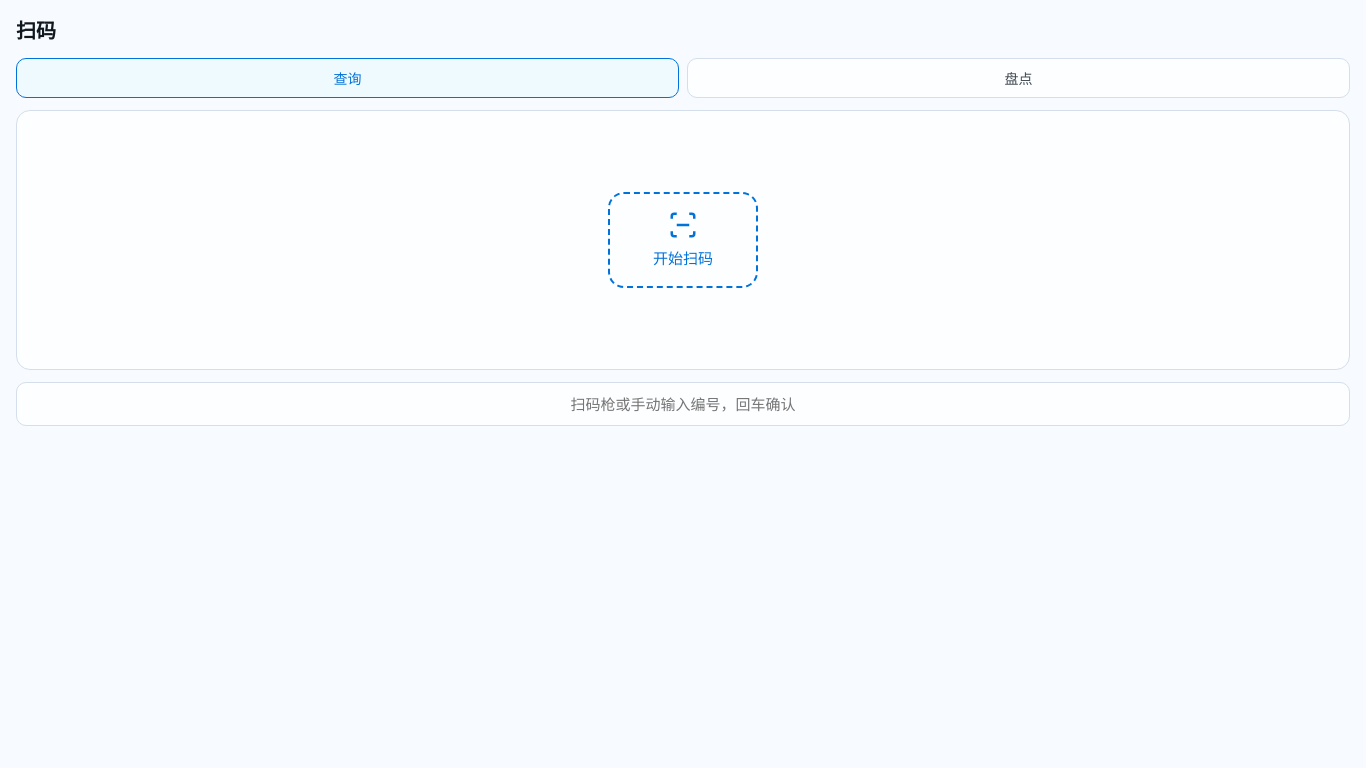
it: ScanAsset 统一扫码器 › 盘点模式：清单内打钩、重复不重交、清单外警告
Click the button with class "mode-btn" showing "盘点" at (1018, 78), box [687,58,1350,98]
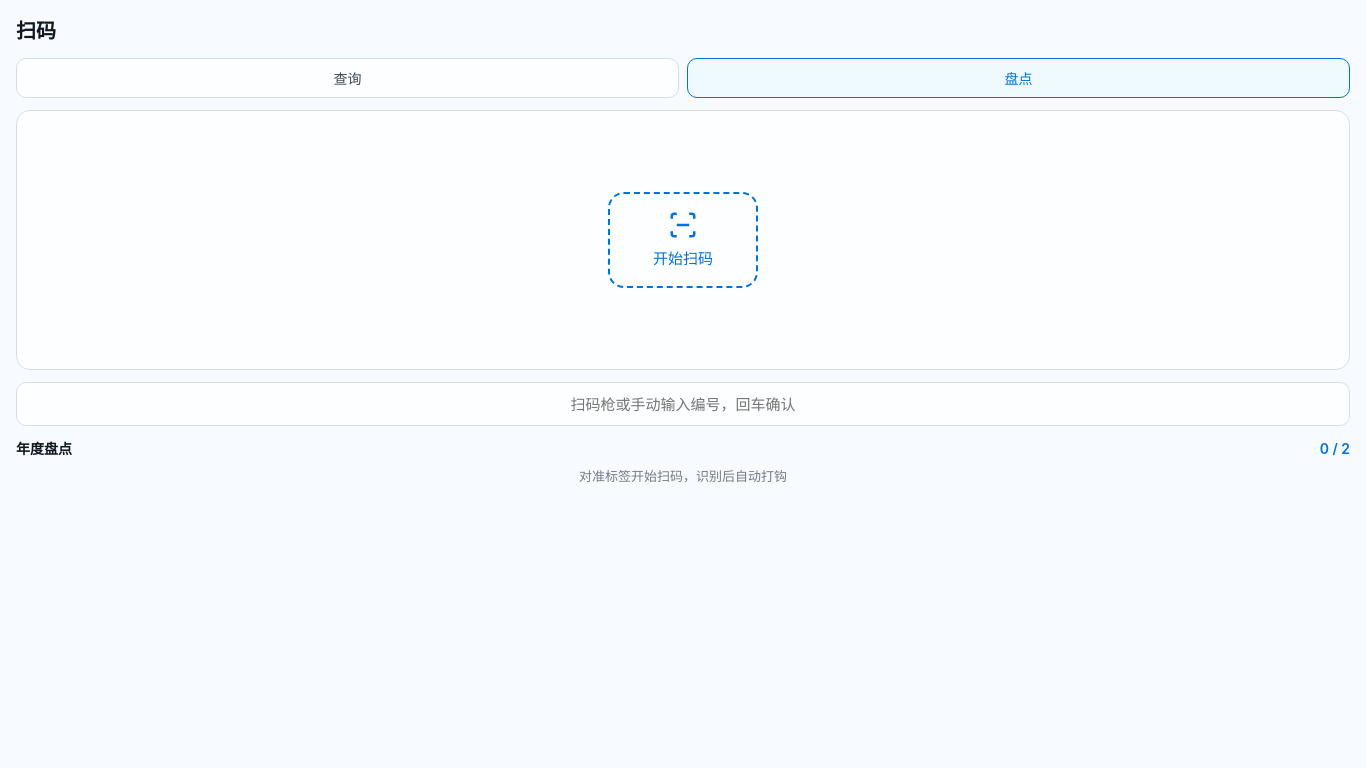
Expected: the element with class "inv-progress" is shown, [16,438,1350,459]
Type "A-a00008-BJ001-1" into the field with class "manual-input" at (683, 404), box [16,382,1350,426]
Press Enter in the field with class "manual-input", box [16,382,1350,426]
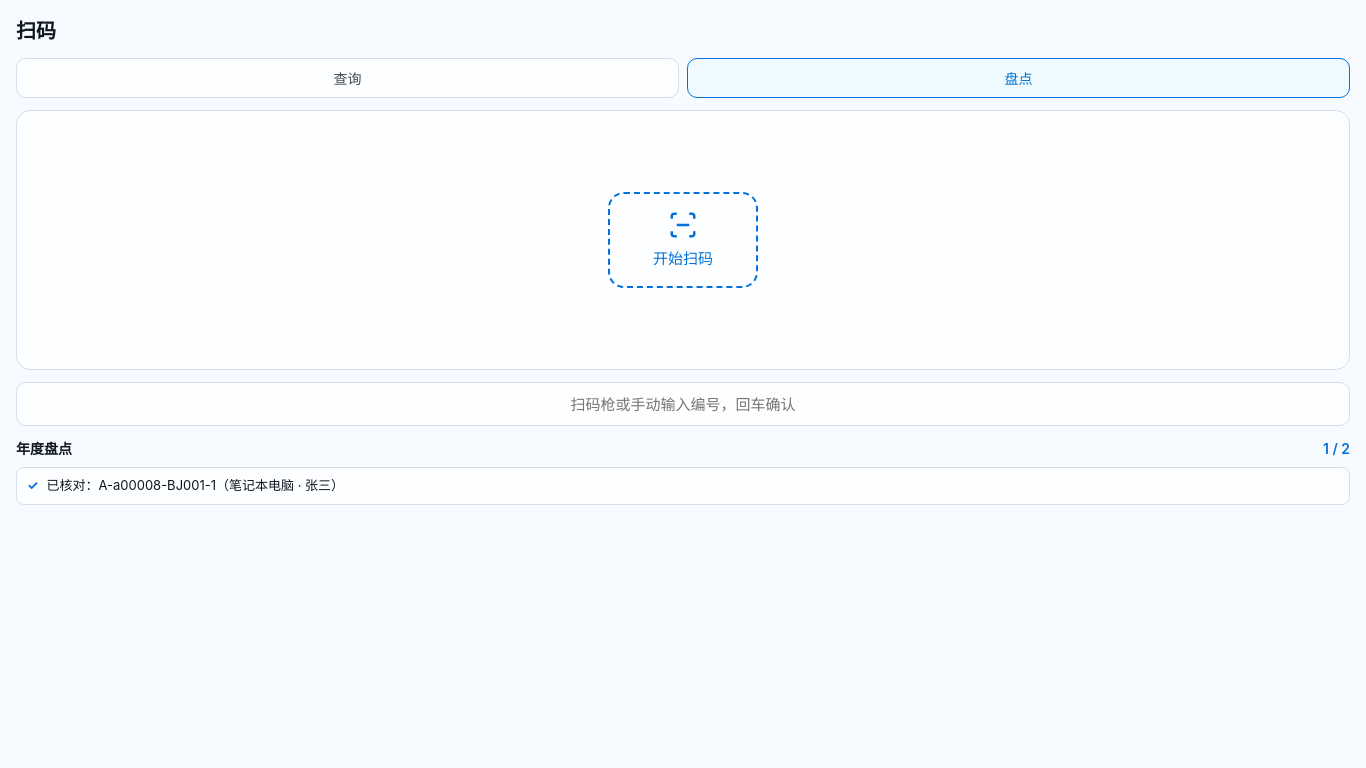
Expected: the element with class "flow-item" shows "A-a00008-BJ001-1", [46,477,344,493]
Type "A-a00008-BJ001-1" into the field with class "manual-input" at (683, 404), box [16,382,1350,426]
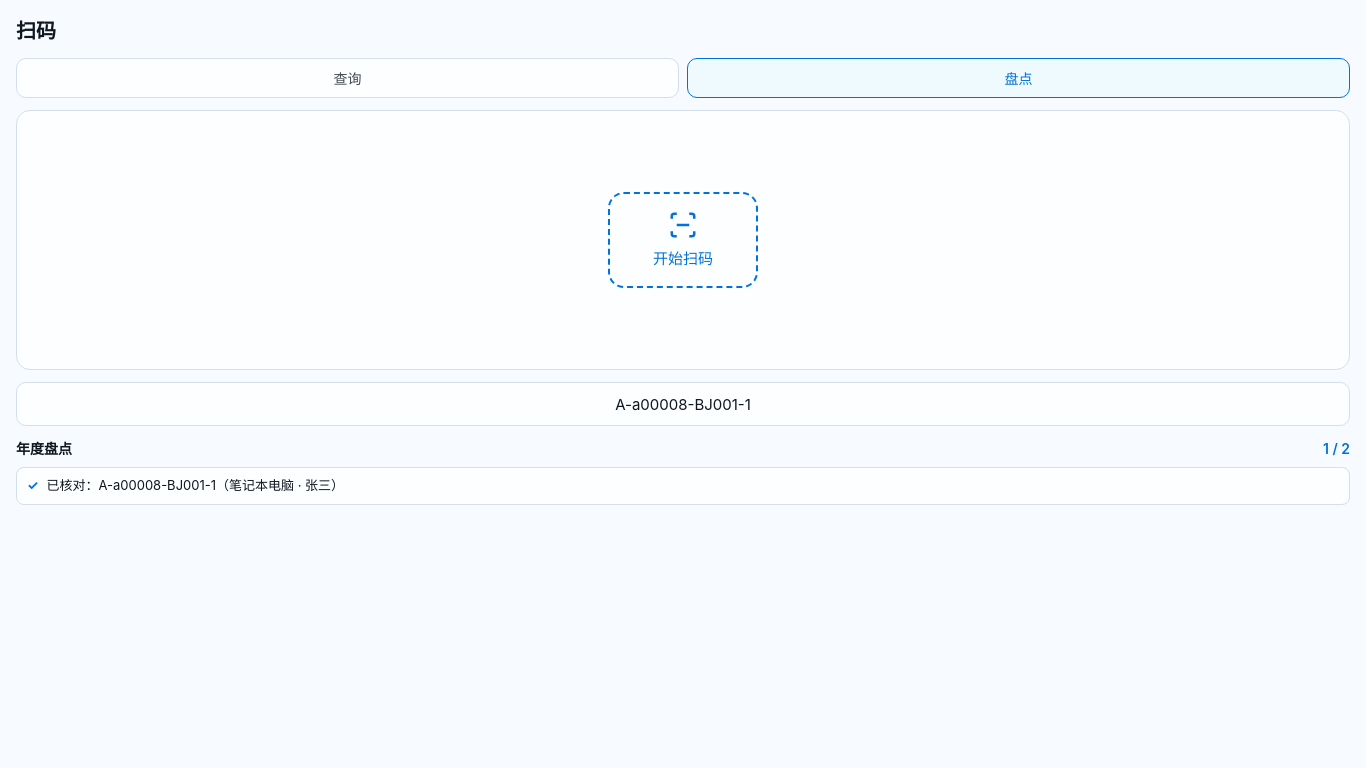
Press Enter in the field with class "manual-input", box [16,382,1350,426]
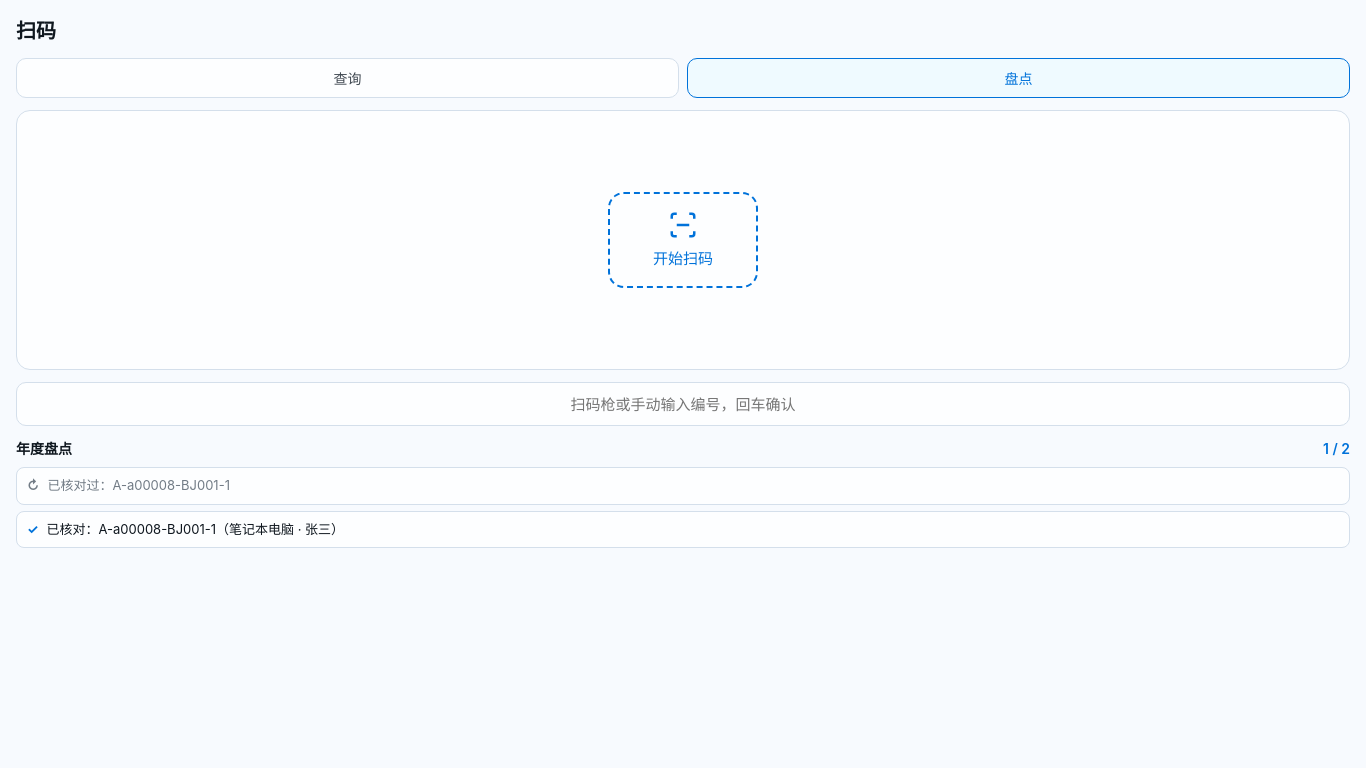
Expected: the element with class "dup" is shown, [16,467,1350,504]
Type "NOT-IN-LIST" into the field with class "manual-input" at (683, 404), box [16,382,1350,426]
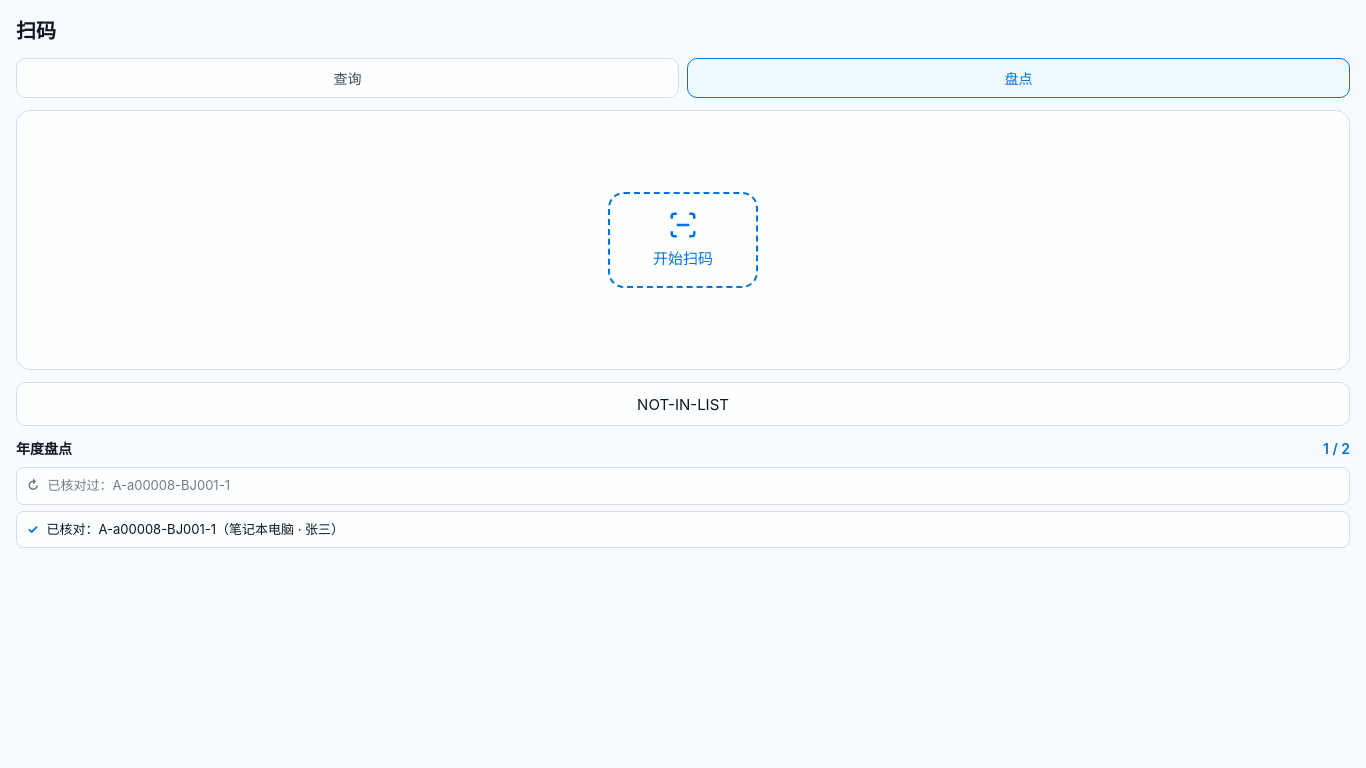
Press Enter in the field with class "manual-input", box [16,382,1350,426]
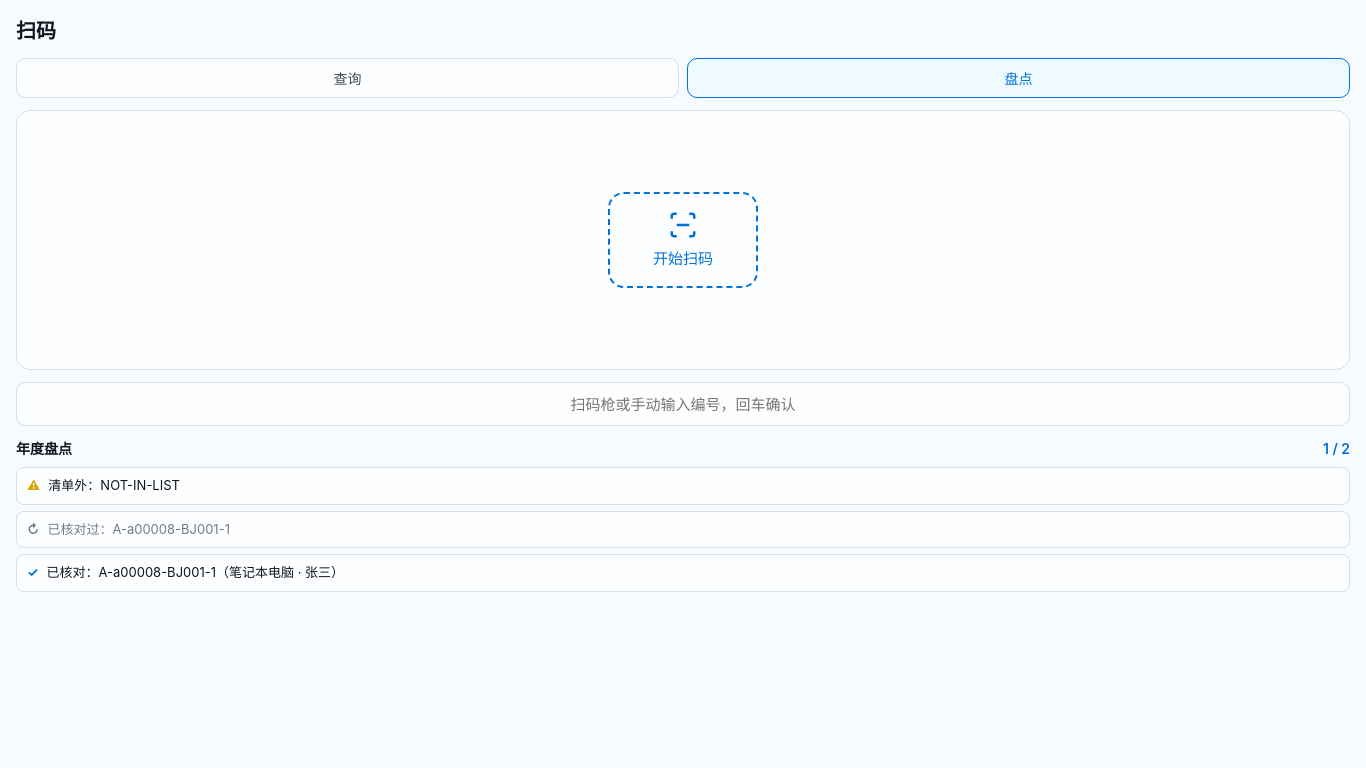
Expected: the element with class "unknown" is shown, [16,467,1350,504]
